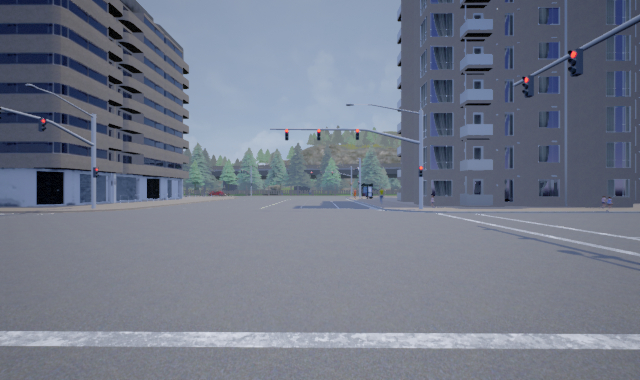pedestrian: (599, 194, 609, 209), (377, 186, 385, 204), (428, 194, 436, 208), (605, 197, 614, 209)
traffic_light: (567, 49, 584, 77), (521, 73, 534, 98), (38, 117, 47, 132), (316, 128, 322, 141), (417, 164, 423, 176), (284, 127, 289, 140), (354, 127, 359, 139), (92, 166, 97, 176)
